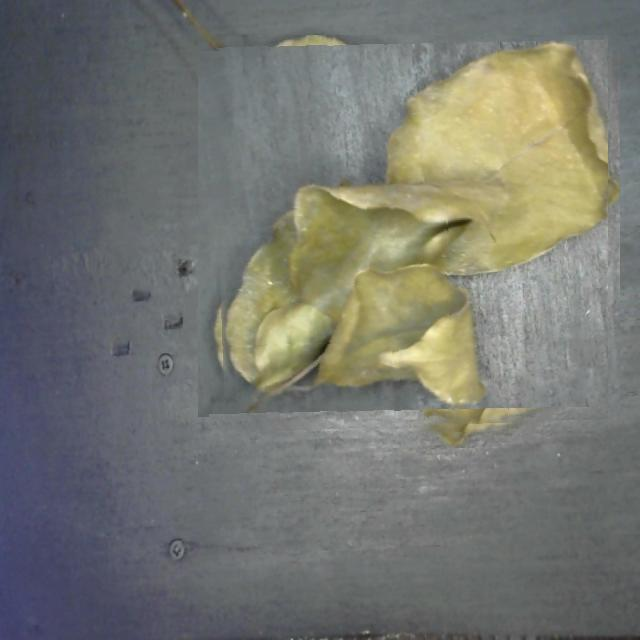biodegradable: (211, 35, 608, 433)
